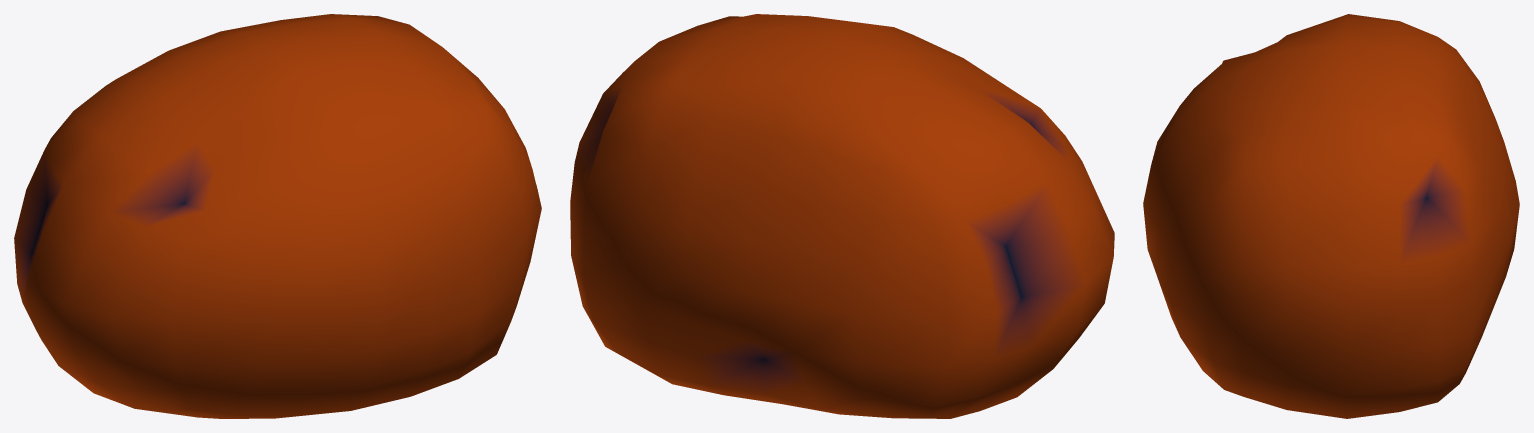
Rendered from Potato.fbx.
3 views of the same model, side by side, from view 1: azimuth 30°, elevation 25°; view 2: azimuth 150°, elevation 25°; view 3: azimuth 270°, elevation 25° (orthographic). The views are drawn at different scales.
Visible parts, largest first — view 1: potato_re Xform; view 2: potato_re Xform; view 3: potato_re Xform.
Part boxes in pixels (x1,y1,x2,y2): potato_re Xform: [14, 14, 541, 418]; potato_re Xform: [570, 14, 1114, 418]; potato_re Xform: [1143, 14, 1519, 418].
Bounding box in the file's own units: 21.02 × 15.39 × 14.45.
